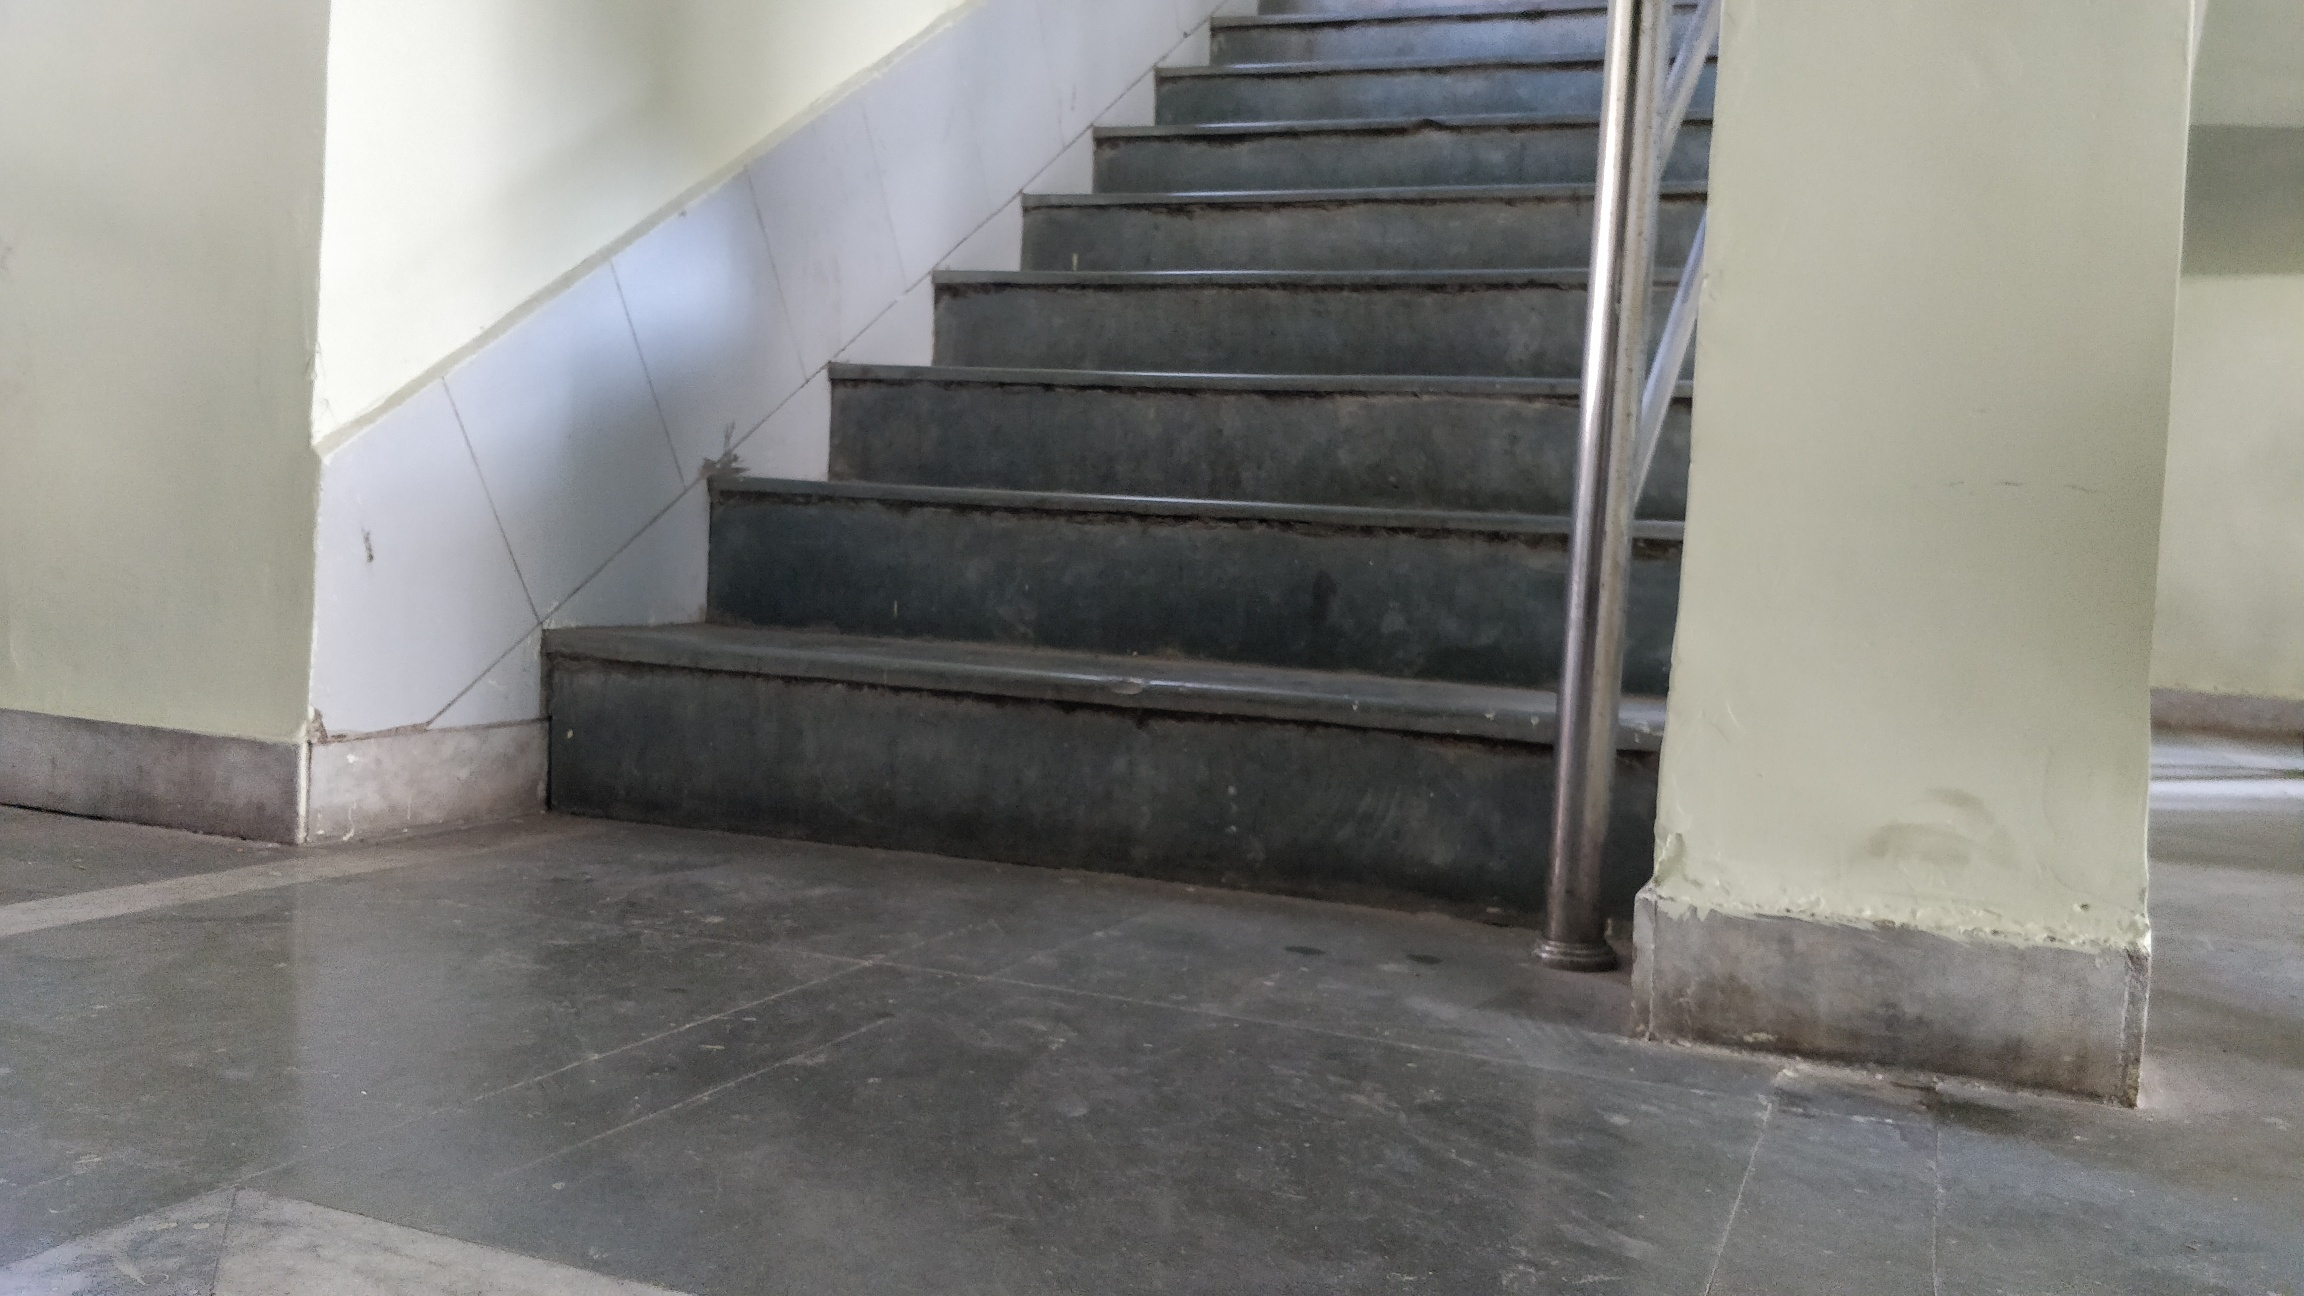stairs_up: (530, 9, 1707, 907)
